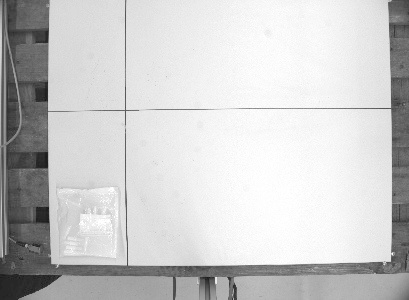t3: (53, 183, 122, 262)
